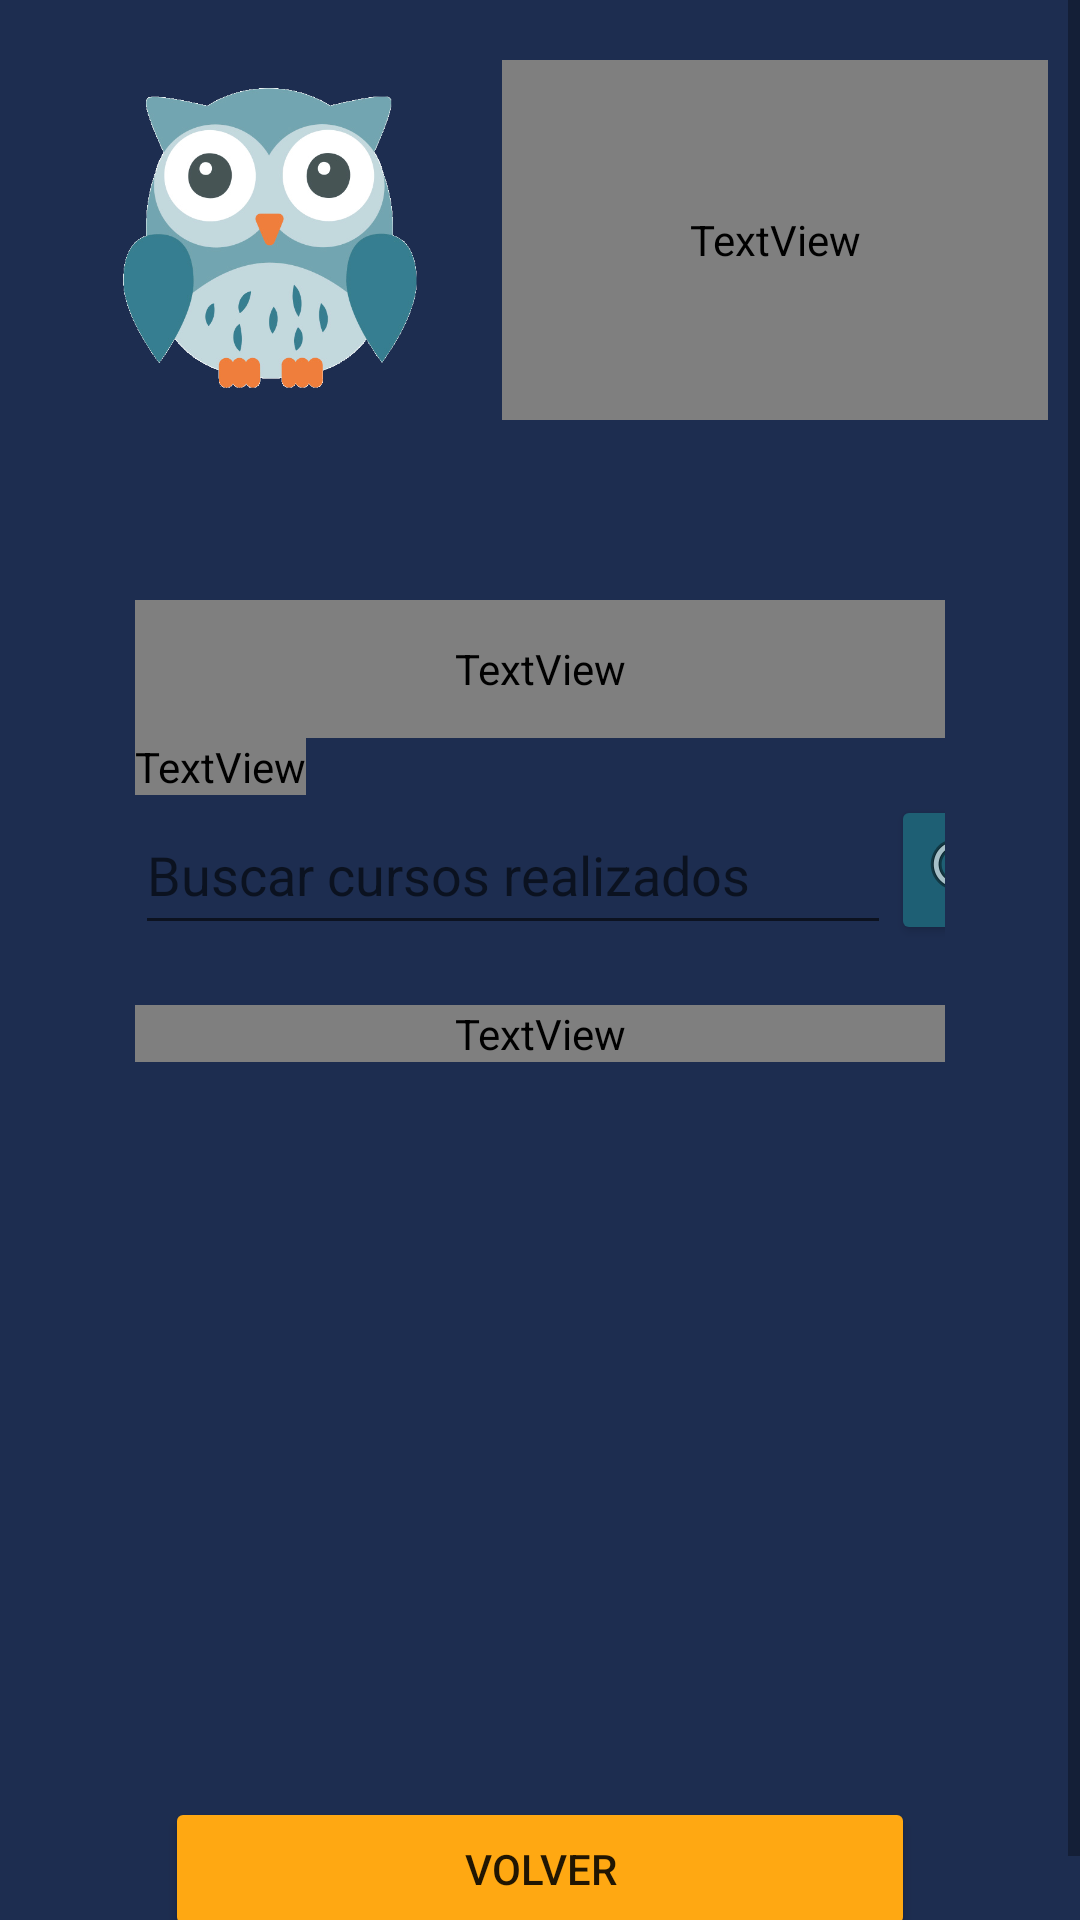

Point at icon controls on the screen. Image size 1080×1920, points as (x=x, y=y).
estudiante: (x=270, y=238)
